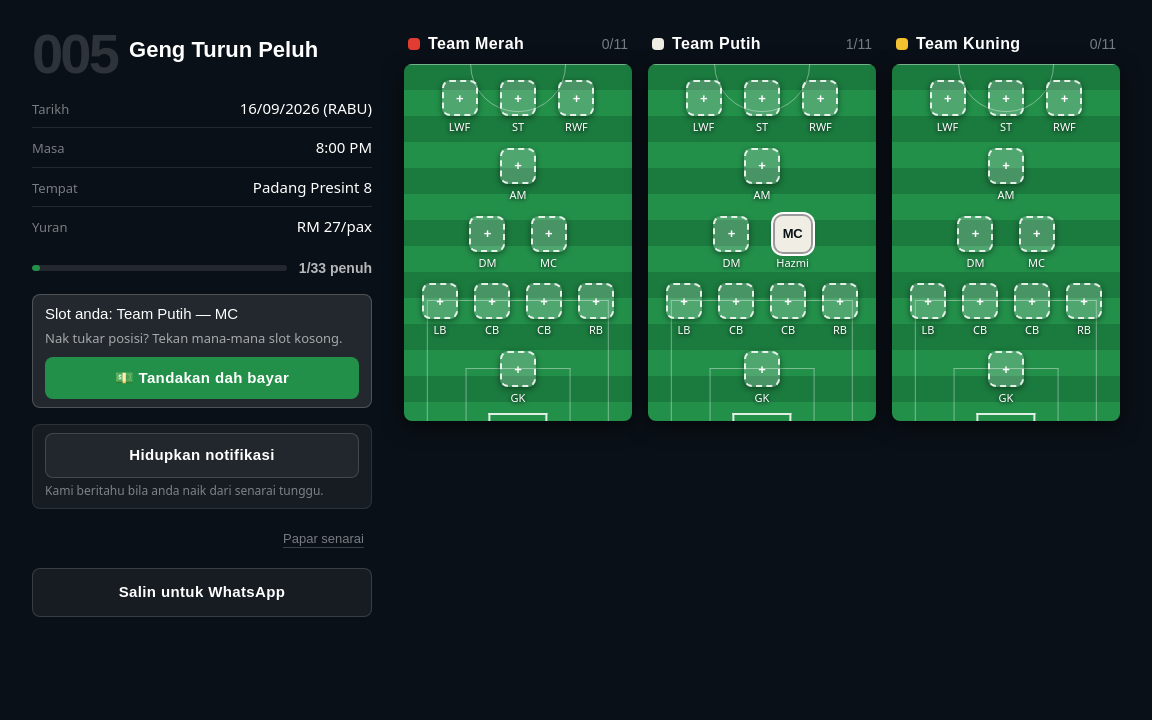
Test: SessionPage › never looks a phone up for a player, even on their own slot
This screenshot has width=1152, height=720.
Click the button "MC Hazmi" at {"x": 793, "y": 242}, box [764,216,821,269]
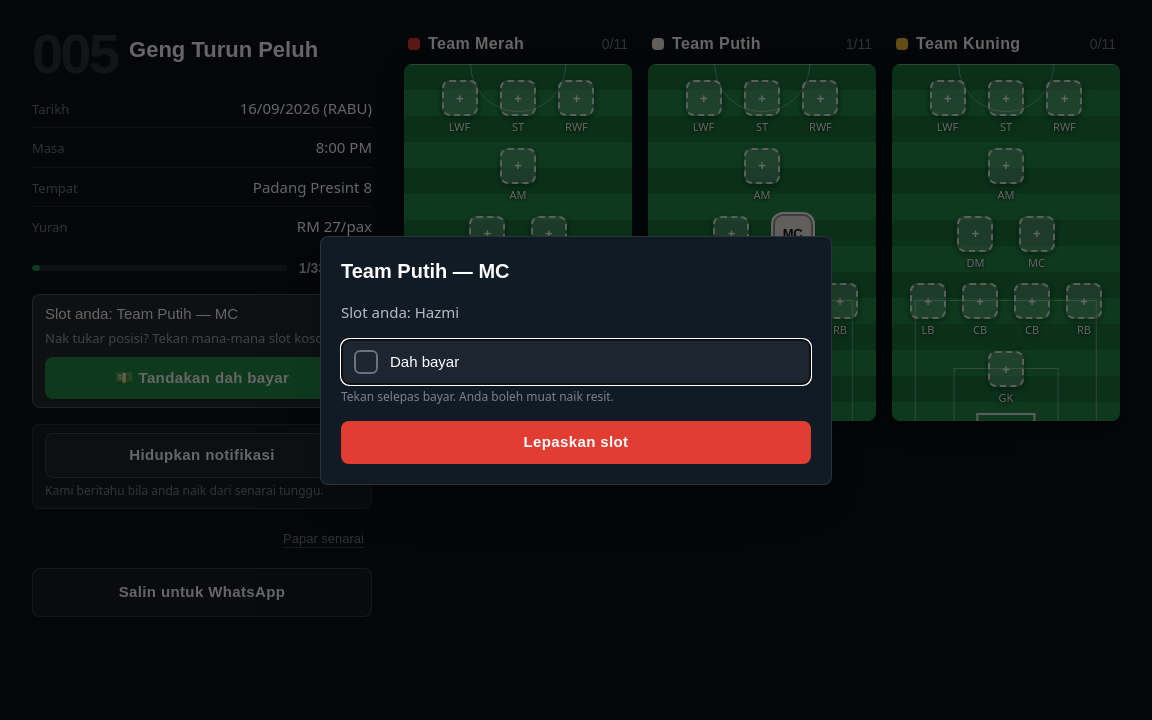
Expected: the button "Lepaskan slot" is shown, [341,421,811,464]
